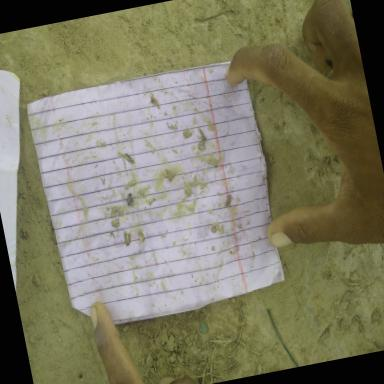pbw: (121, 230, 132, 246), (122, 152, 134, 166), (198, 132, 208, 146), (165, 168, 175, 182), (224, 194, 232, 206)
